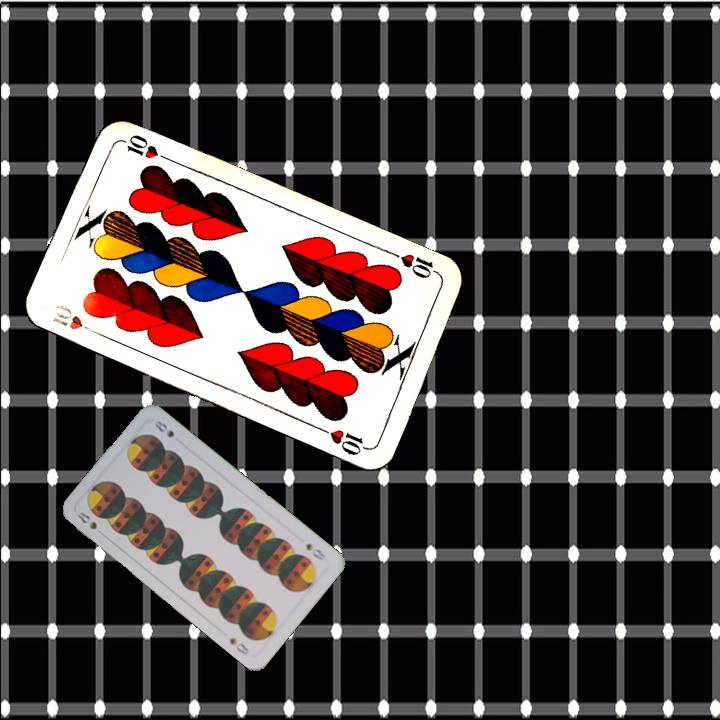H10: (48, 300, 102, 338), (387, 247, 443, 281)
S8: (73, 507, 100, 532), (302, 539, 328, 563)
